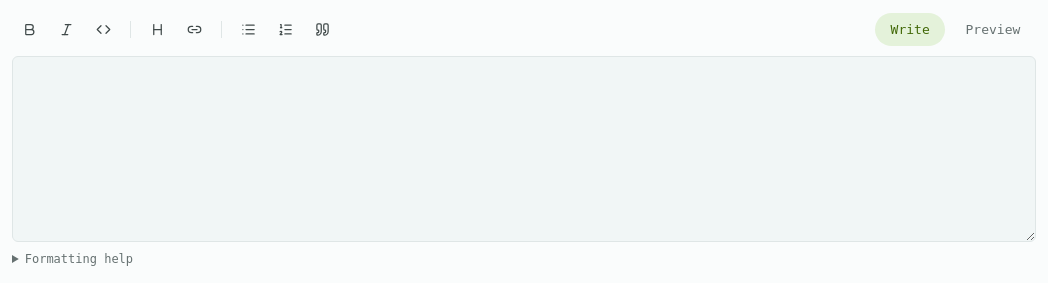
Test: MarkdownEditor toolbar › responds to the keyboard shortcut as well as the button
Step 1. Type "hello" into the text box → coordinates (524, 149), box [12,56,1036,242]
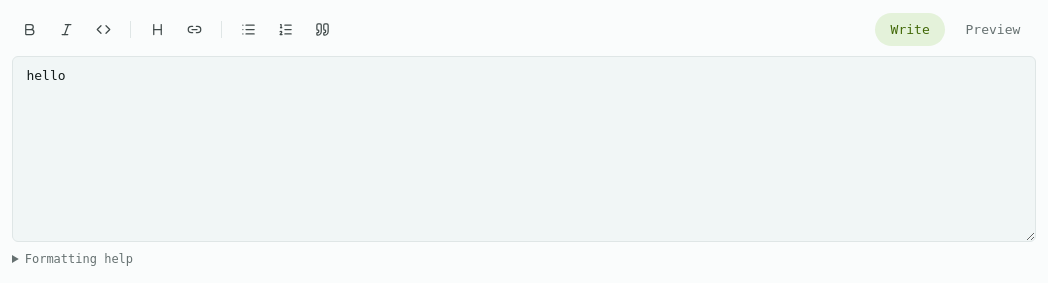
Step 2. Press b in the text box
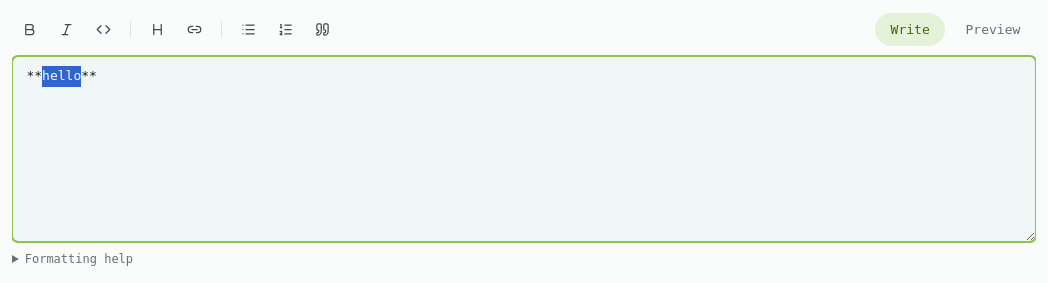
Now the text box holds "**hello**"
